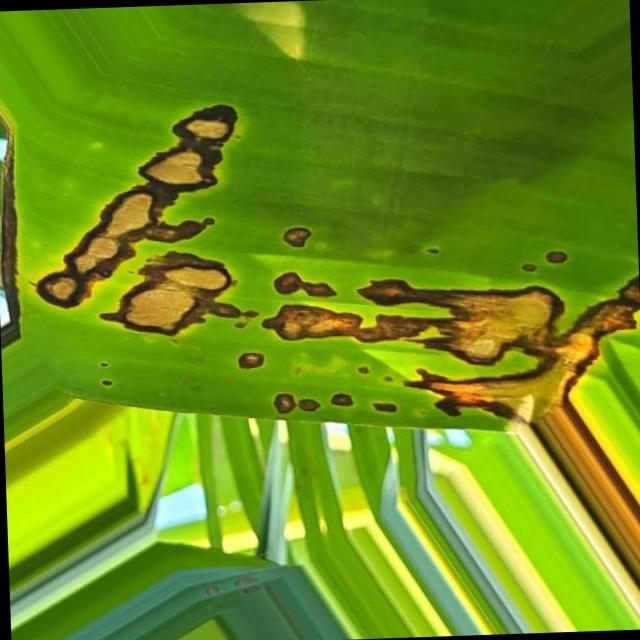Banana_Black_Sigatoka: (108, 56, 640, 555)
